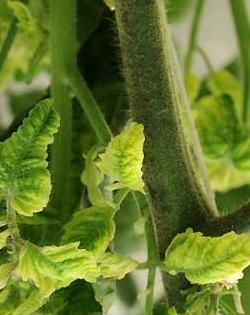Tomato leaf yellow virus: (0, 94, 75, 231), (93, 93, 157, 216), (26, 227, 133, 285), (164, 230, 250, 295)
